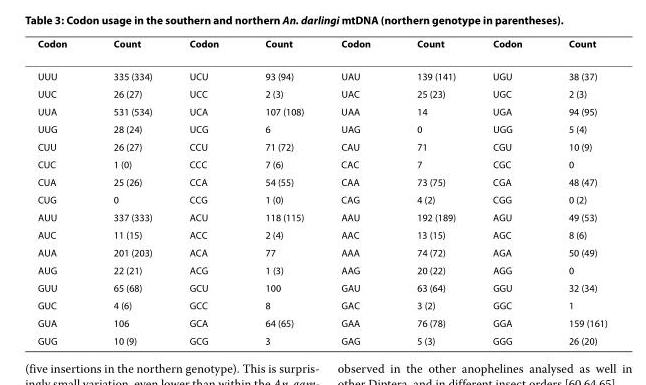table: (36, 36, 606, 346)
table column: (89, 36, 170, 346), (241, 36, 321, 346), (393, 36, 473, 346), (321, 36, 393, 346), (170, 36, 241, 346), (473, 36, 544, 346), (544, 36, 606, 346), (36, 36, 89, 346)
table column header: (36, 36, 606, 59)
table row: (36, 59, 606, 84), (36, 36, 606, 59), (36, 84, 606, 102), (36, 119, 606, 137), (36, 154, 606, 172), (36, 172, 606, 190), (36, 207, 606, 225), (36, 225, 606, 243), (36, 260, 606, 278), (36, 278, 606, 296), (36, 313, 606, 331), (36, 102, 606, 119), (36, 137, 606, 154), (36, 190, 606, 207), (36, 243, 606, 260), (36, 296, 606, 313), (36, 331, 606, 346)
